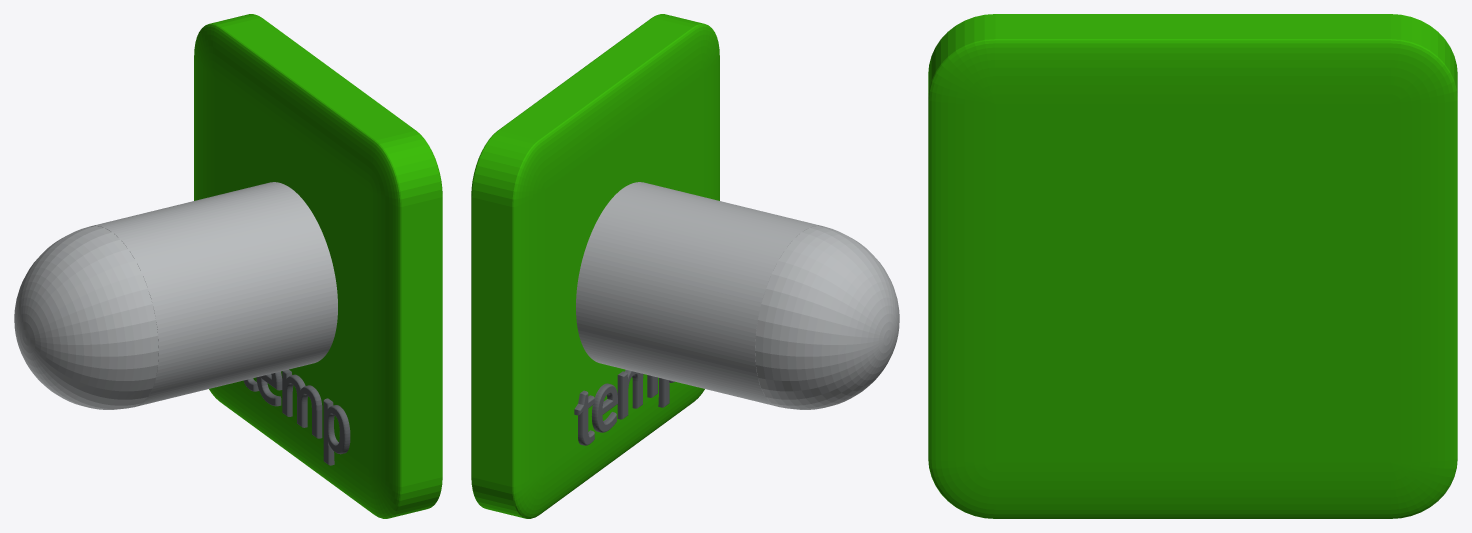
File: temp sensor.glb
3 views of the same model, side by side, from view 1: azimuth 30°, elevation 25°; view 2: azimuth 150°, elevation 25°; view 3: azimuth 270°, elevation 25° (orthographic). The views are drawn at different scales.
Parts seen in each view (by area): view 1: Mesh_Mesh_head_geo.001_lambert2SG.001; view 2: Mesh_Mesh_head_geo.001_lambert2SG.001; view 3: Mesh_Mesh_head_geo.001_lambert2SG.001.
Part boxes in pixels (x1,y1,x2,y2): Mesh_Mesh_head_geo.001_lambert2SG.001: (14,14,442,518); Mesh_Mesh_head_geo.001_lambert2SG.001: (471,14,899,518); Mesh_Mesh_head_geo.001_lambert2SG.001: (928,14,1457,518).
Bounding box in the file's own units: 0.0178 × 0.02 × 0.02.
